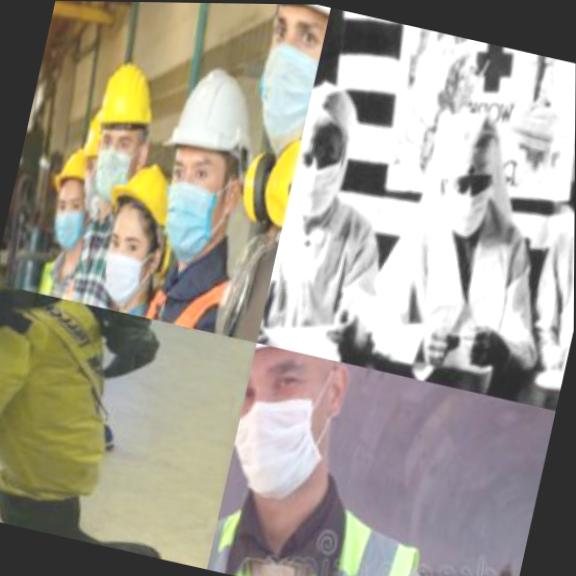safety_vest: (0, 283, 158, 547), (208, 454, 460, 576), (126, 236, 264, 339), (18, 244, 111, 306)
